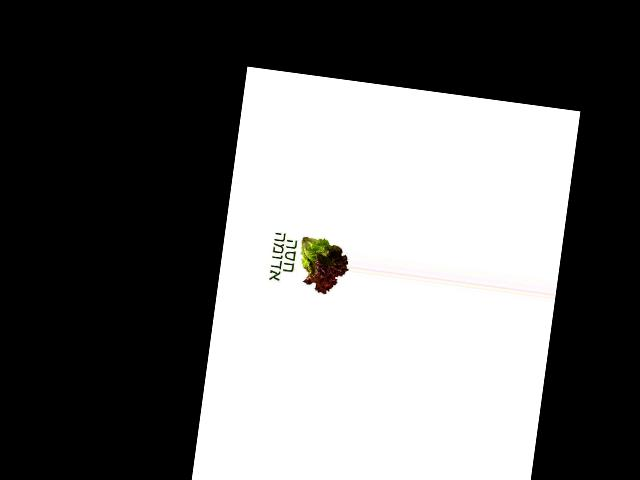lettuce: (293, 230, 352, 297)
